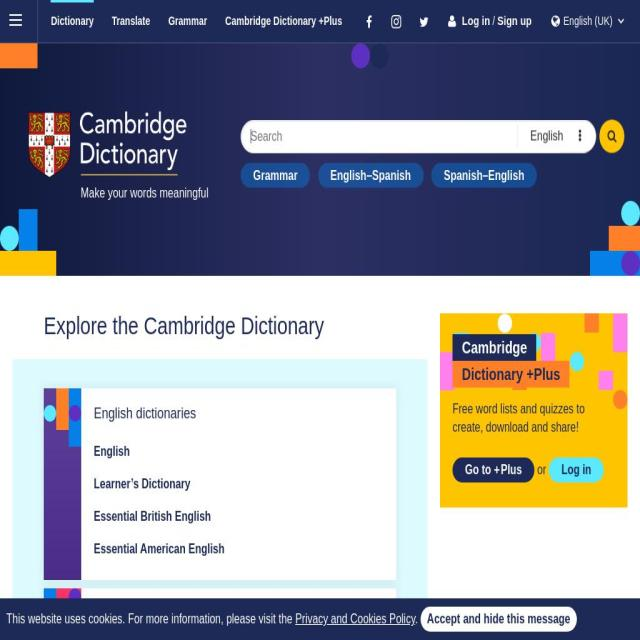button: (28, 111, 187, 177), (421, 606, 577, 632), (317, 162, 423, 188), (431, 162, 537, 188), (453, 458, 535, 482), (240, 162, 310, 188), (517, 124, 591, 148), (440, 6, 491, 36), (549, 458, 604, 482)
field: (241, 119, 596, 153)
heading: (44, 314, 396, 338), (94, 405, 384, 421), (94, 604, 144, 622)
image: (440, 313, 628, 410), (28, 111, 187, 177), (0, 209, 56, 276), (590, 201, 640, 276), (44, 388, 81, 447), (44, 588, 81, 622), (0, 44, 38, 68), (351, 44, 389, 68), (608, 606, 626, 632)
link: (94, 542, 224, 556), (295, 612, 416, 626), (94, 509, 211, 523), (94, 477, 190, 491), (94, 444, 130, 458)
text: (453, 400, 615, 437), (6, 612, 295, 626), (452, 361, 570, 387), (452, 334, 537, 361), (225, 11, 343, 30), (81, 185, 215, 200), (330, 168, 411, 182), (444, 168, 524, 182), (51, 11, 94, 30), (111, 11, 151, 30), (168, 11, 208, 30), (562, 14, 612, 28), (253, 168, 298, 182), (603, 120, 621, 152), (530, 128, 564, 144), (497, 13, 532, 28), (465, 462, 500, 477), (462, 13, 491, 28), (500, 462, 522, 477), (534, 462, 550, 477), (490, 14, 498, 28), (415, 612, 421, 626)
